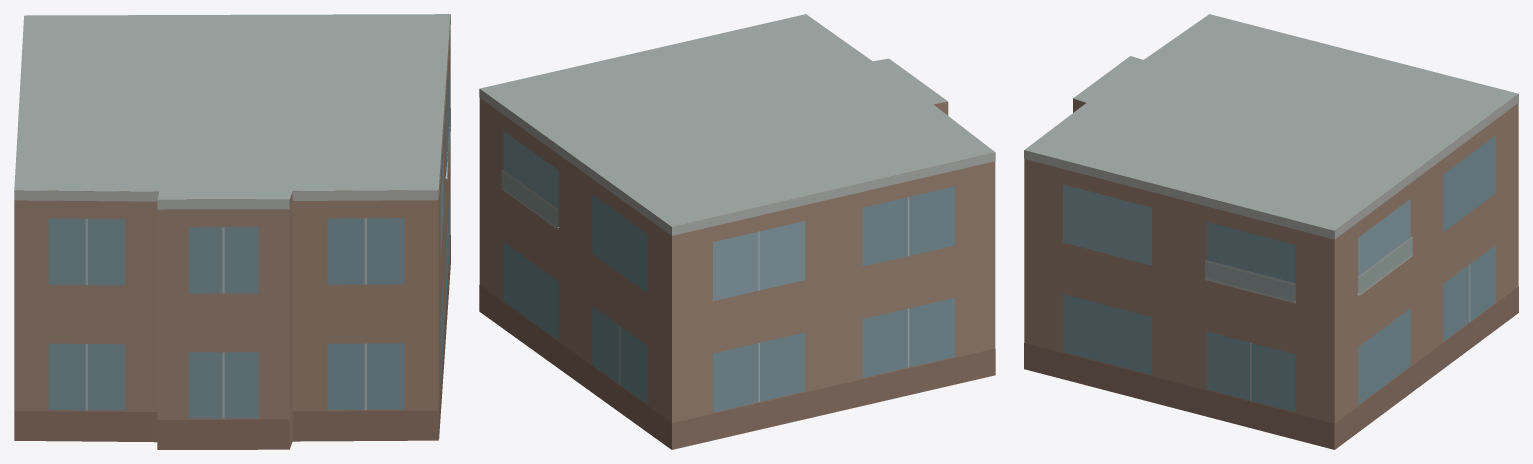
The model's file is survey-upis-32660166.glb.
3 views of the same model, side by side, from view 1: azimuth 30°, elevation 25°; view 2: azimuth 150°, elevation 25°; view 3: azimuth 270°, elevation 25° (orthographic). The views are drawn at different scales.
Visible parts, largest first — view 1: survey-upis-32660166.tmp; view 2: survey-upis-32660166.tmp; view 3: survey-upis-32660166.tmp.
Boxes of the visible parts, x1,y1,x2,y2 form: survey-upis-32660166.tmp: [14, 14, 450, 449]; survey-upis-32660166.tmp: [479, 14, 995, 449]; survey-upis-32660166.tmp: [1024, 14, 1518, 449].
Bounding box in the file's own units: 12.96 × 6.1 × 12.49.
